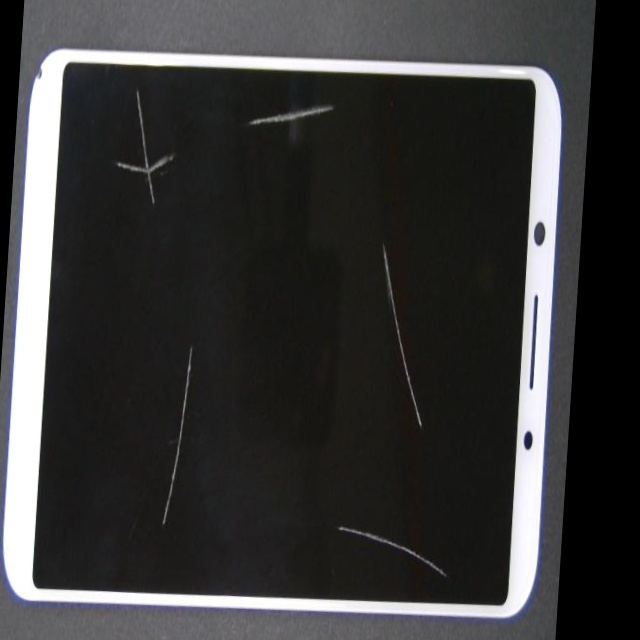scratch: (93, 33, 286, 613), (285, 293, 576, 640), (243, 297, 576, 548), (76, 121, 258, 300), (219, 31, 460, 163)
